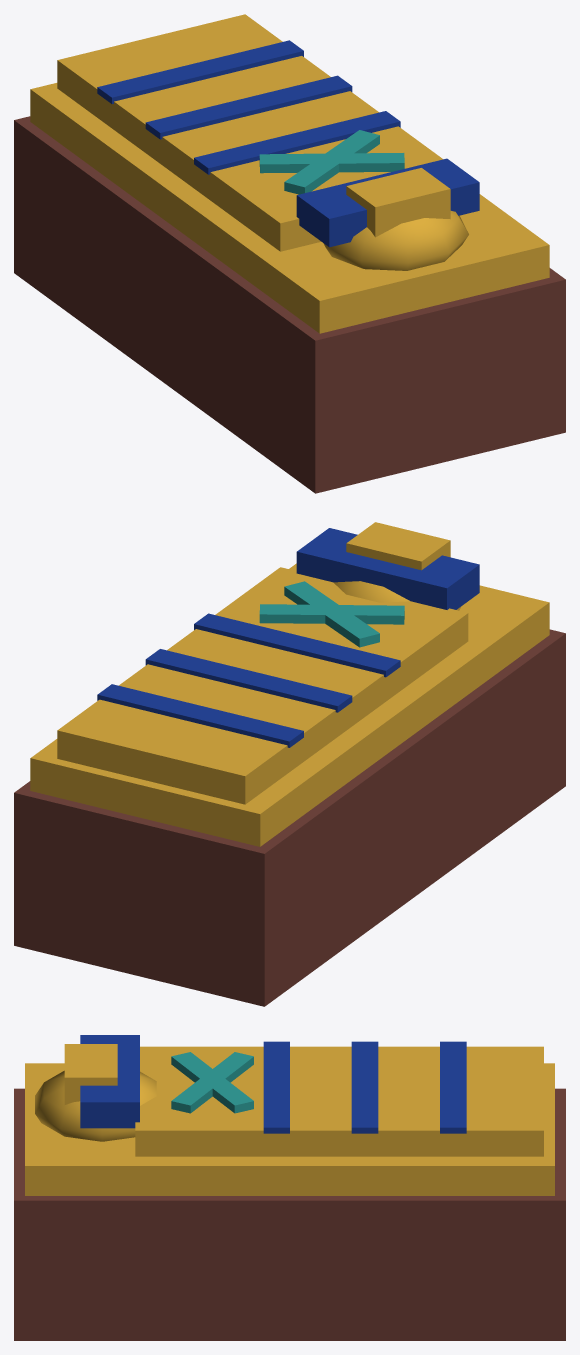
Rendered from eg_sarcophagus.glb.
The picture shows the model from 3 angles, top to bottom: view 1: azimuth 30°, elevation 25°; view 2: azimuth 150°, elevation 25°; view 3: azimuth 270°, elevation 25°; orthographic projection. The views are drawn at different scales.
Visible parts, largest first — view 1: eg_sarcophagus; view 2: eg_sarcophagus; view 3: eg_sarcophagus.
Part boxes in pixels (bbox=[...]): eg_sarcophagus: bbox=[14, 14, 565, 493]; eg_sarcophagus: bbox=[14, 522, 565, 1006]; eg_sarcophagus: bbox=[14, 1035, 565, 1340].
Bounding box in the file's own units: 1.2 × 1.12 × 2.5.
